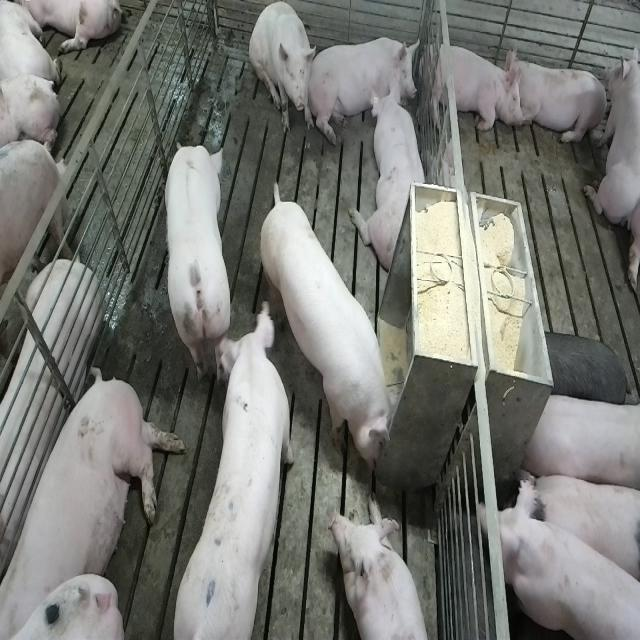Lateral_lying: (5, 363, 186, 636), (0, 260, 102, 580)
Sitting: (250, 3, 316, 138)
Standing: (261, 175, 404, 477), (171, 295, 296, 635), (491, 492, 639, 638), (164, 134, 236, 380), (513, 462, 637, 590), (0, 138, 72, 354), (518, 385, 638, 502), (526, 323, 636, 412)
Sternal_lying: (334, 497, 435, 640), (357, 85, 430, 274), (313, 30, 419, 135), (586, 35, 637, 230), (509, 52, 609, 148), (425, 38, 520, 136)
